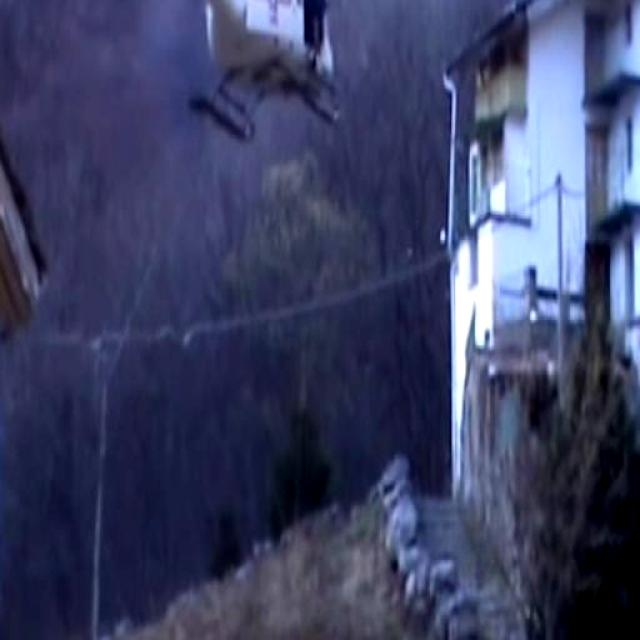drone: (105, 0, 346, 148)
